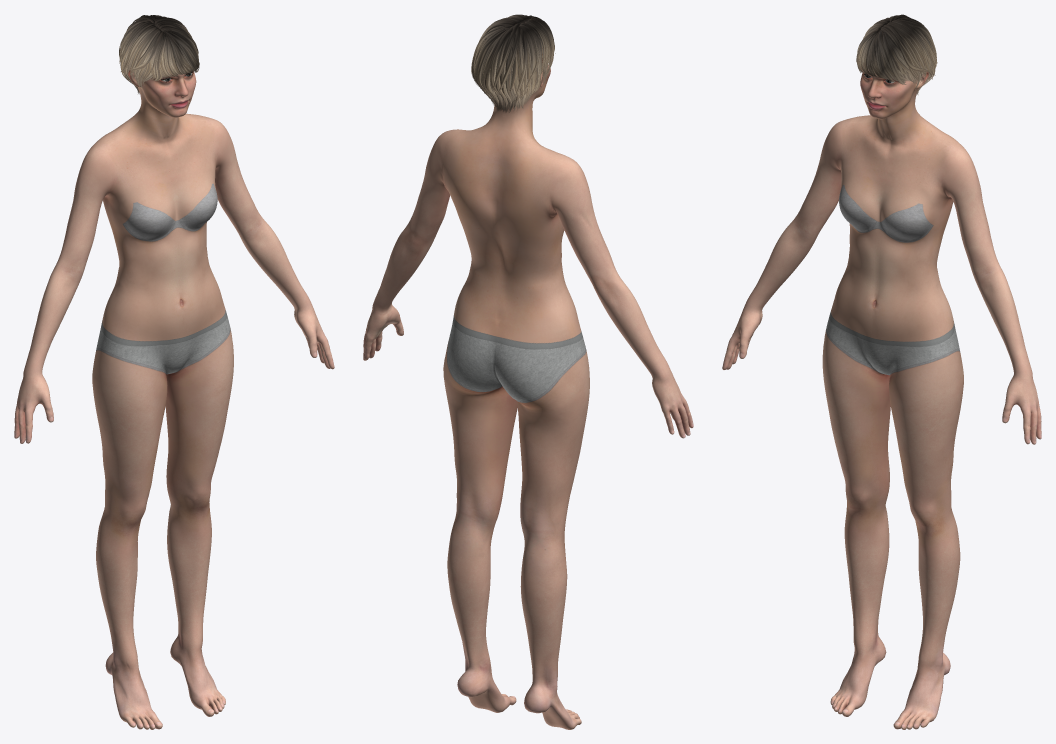
The model's file is girl.glb.
3 views of the same model, side by side, from view 1: azimuth 30°, elevation 25°; view 2: azimuth 150°, elevation 25°; view 3: azimuth 330°, elevation 25° (orthographic). The views are drawn at different scales.
Parts seen in each view (by area): view 1: body, hair_Shape; view 2: body, hair_Shape; view 3: body, hair_Shape.
Part boxes in pixels (x1,y1,x2,y2): body: [14, 68, 334, 729]; hair_Shape: [119, 15, 199, 94]; body: [363, 48, 693, 729]; hair_Shape: [471, 14, 555, 112]; body: [722, 63, 1041, 729]; hair_Shape: [856, 14, 937, 94].
Size of the model in its own units: 1.32 by 2.78 by 0.3584.
12 materials, 12 textured.
